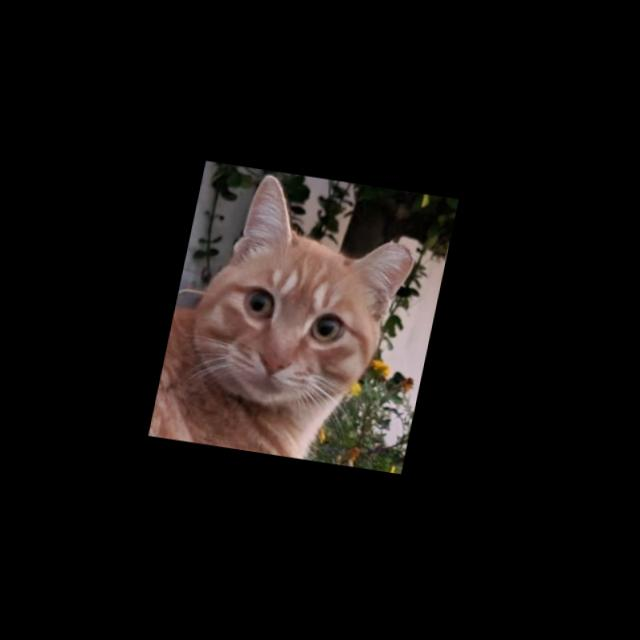animals: (180, 163, 432, 430)
